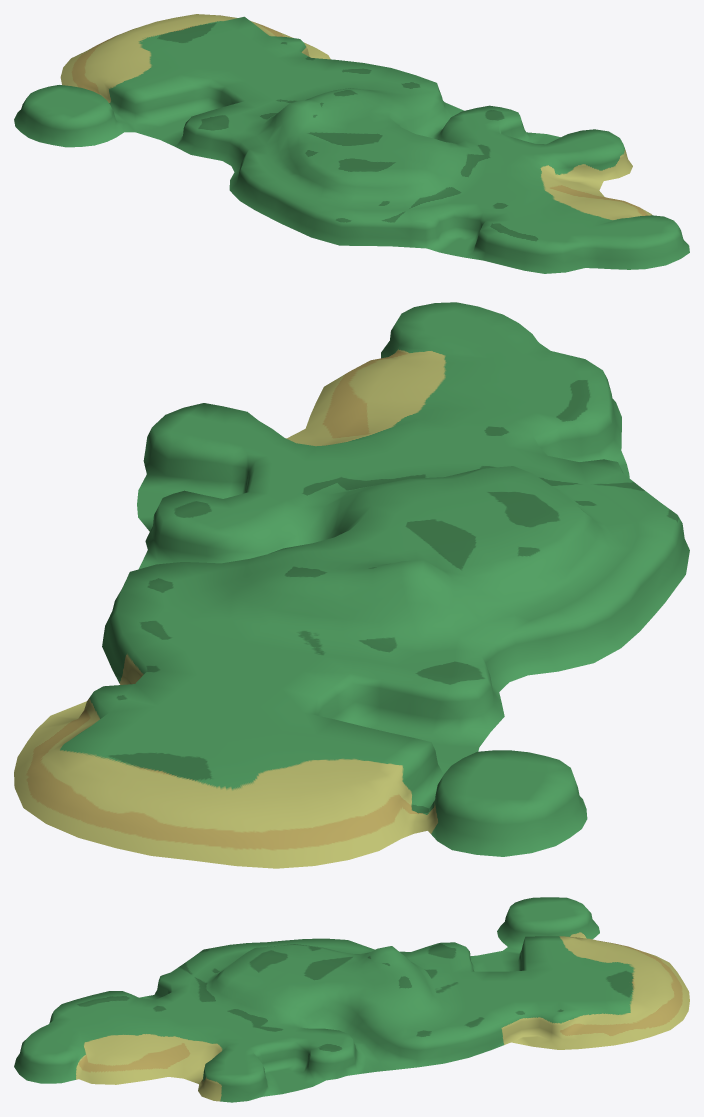
The model's file is SM_Landscape_MG01.gltf.
3 views of the same model, one above another, from view 1: azimuth 30°, elevation 25°; view 2: azimuth 150°, elevation 25°; view 3: azimuth 270°, elevation 25° (orthographic). The views are drawn at different scales.
Parts seen in each view (by area): view 1: SM_Landscape_MG01; view 2: SM_Landscape_MG01; view 3: SM_Landscape_MG01.
Boxes of the visible parts, x1,y1,x2,y2 form: SM_Landscape_MG01: (14, 14, 689, 273); SM_Landscape_MG01: (14, 302, 689, 868); SM_Landscape_MG01: (14, 897, 689, 1102).
Size of the model in its own units: 175 by 19.82 by 263.
1 material, 1 textured.
